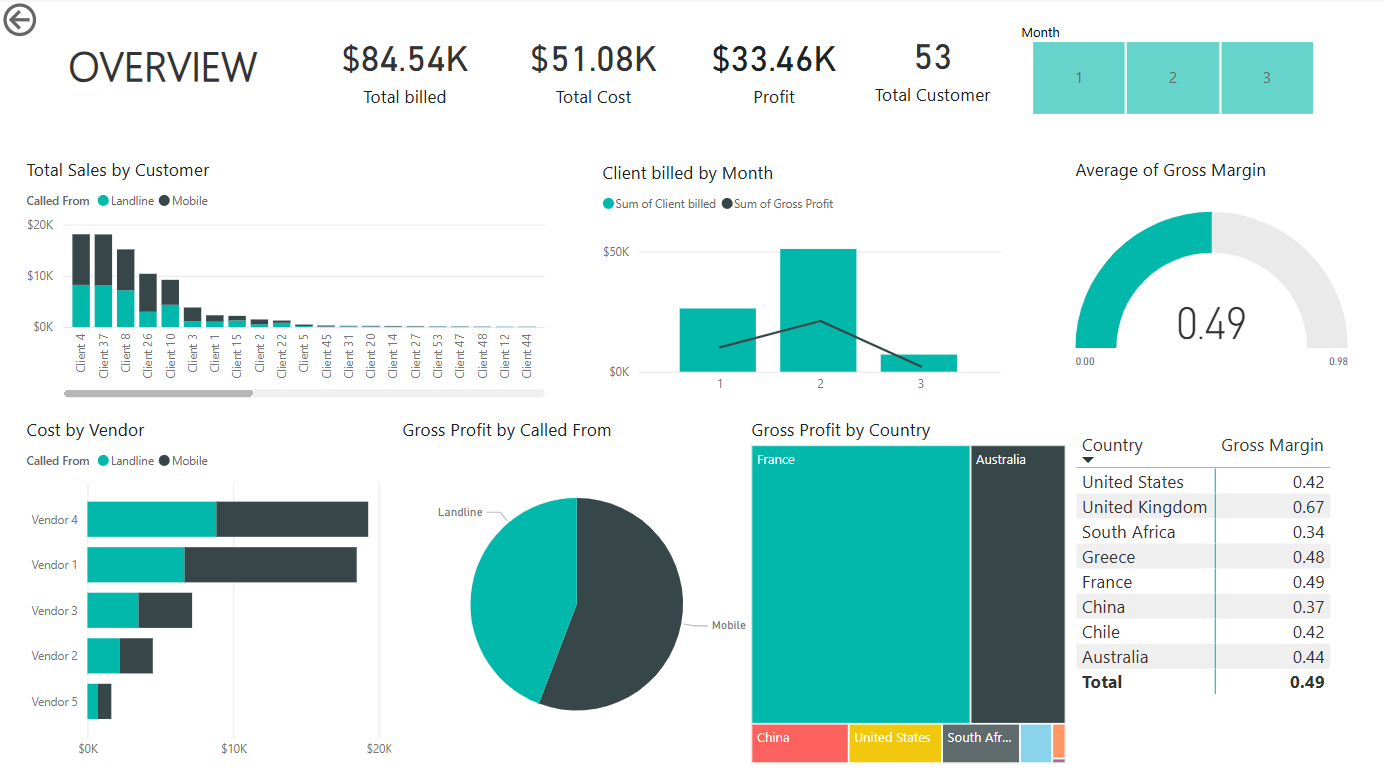

The page's visual inventory and layout, read from the dashboard file:
{"tool":"powerbi","page":{"name":"Page 1","canvas":[1280,720],"ordinal":0},"visuals":[{"type":"card","fields":{"Values":["Sum(Data.Vendor billed)"]},"box":[453.6,12.9,186.4,101.9],"z":0},{"type":"actionButton","box":[0,0,100,40],"z":1000},{"type":"gauge","fields":{"Y":["Avg(Data.Gross Margin)"]},"box":[984.8,146,260.3,225.8],"z":2000},{"type":"treemap","title":"Gross Profit by Country","fields":{"Group":["Data.Rates - Clients.Country"],"Values":["Sum(Data.Gross Profit)"]},"box":[686.4,384.5,298.3,322.8],"z":3000},{"type":"columnChart","title":"Total Sales by Customer","fields":{"Category":["Data.Customer"],"Y":["Sum(Data.Client billed)"],"Series":["Data.Called From"]},"box":[20.9,146,486,225.8],"z":4000},{"type":"textbox","box":[49.6,31.2,203.8,66.1],"z":5000},{"type":"barChart","title":"Cost by Vendor","fields":{"Category":["Data.Rates - Carrier.Vendor"],"Y":["Sum(Data.Vendor billed)"],"Series":["Data.Called From"]},"box":[20.9,384.5,345.5,322.8],"z":6000},{"type":"slicer","fields":{"Values":["Data.Month"]},"box":[926.5,17.4,304.8,93.7],"z":7000},{"type":"pivotTable","fields":{"Rows":["Data.Rates - Clients.Country"],"Values":["Avg(Data.Gross Margin)"]},"box":[985.3,393,260.8,261.7],"z":8000},{"type":"lineStackedColumnComboChart","title":"Client billed by Month","fields":{"Category":["Data.Month"],"Y":["Sum(Data.Client billed)"],"Y2":["Sum(Data.Gross Profit)"]},"box":[550.4,148.7,376.3,223.1],"z":8001},{"type":"card","fields":{"Values":["Sum(Data.Client billed)"]},"box":[281,12.9,185.5,101.9],"z":8002},{"type":"card","fields":{"Values":["Count(Data.Customer)"]},"box":[785.1,11,146,101.9],"z":8003},{"type":"pieChart","title":"Gross Profit by Called From","fields":{"Category":["Data.Called From"],"Y":["Sum(Data.Gross Profit)"]},"box":[366.3,384.5,330.1,322.8],"z":8004},{"type":"card","fields":{"Values":["Sum(Data.Gross Profit)"]},"box":[640,12.9,145.1,101.9],"z":8005}]}

Visuals, with their boxes in screenshot pixels (x1, y1, x2, y2), scaled from the page's 1280x720 canvas onto the 1384x778 screenshot:
card - Sum(Data.Vendor billed): BBox(490, 14, 692, 124)
actionButton: BBox(0, 0, 108, 43)
gauge - Avg(Data.Gross Margin): BBox(1065, 158, 1346, 402)
"Gross Profit by Country" treemap: BBox(742, 415, 1065, 764)
"Total Sales by Customer" columnChart: BBox(23, 158, 548, 402)
textbox: BBox(54, 34, 274, 105)
"Cost by Vendor" barChart: BBox(23, 415, 396, 764)
slicer - Data.Month: BBox(1002, 19, 1331, 120)
pivotTable - Data.Rates - Clients.Country x Avg(Data.Gross Margin): BBox(1065, 425, 1347, 707)
"Client billed by Month" lineStackedColumnComboChart: BBox(595, 161, 1002, 402)
card - Sum(Data.Client billed): BBox(304, 14, 504, 124)
card - Count(Data.Customer): BBox(849, 12, 1007, 122)
"Gross Profit by Called From" pieChart: BBox(396, 415, 753, 764)
card - Sum(Data.Gross Profit): BBox(692, 14, 849, 124)
